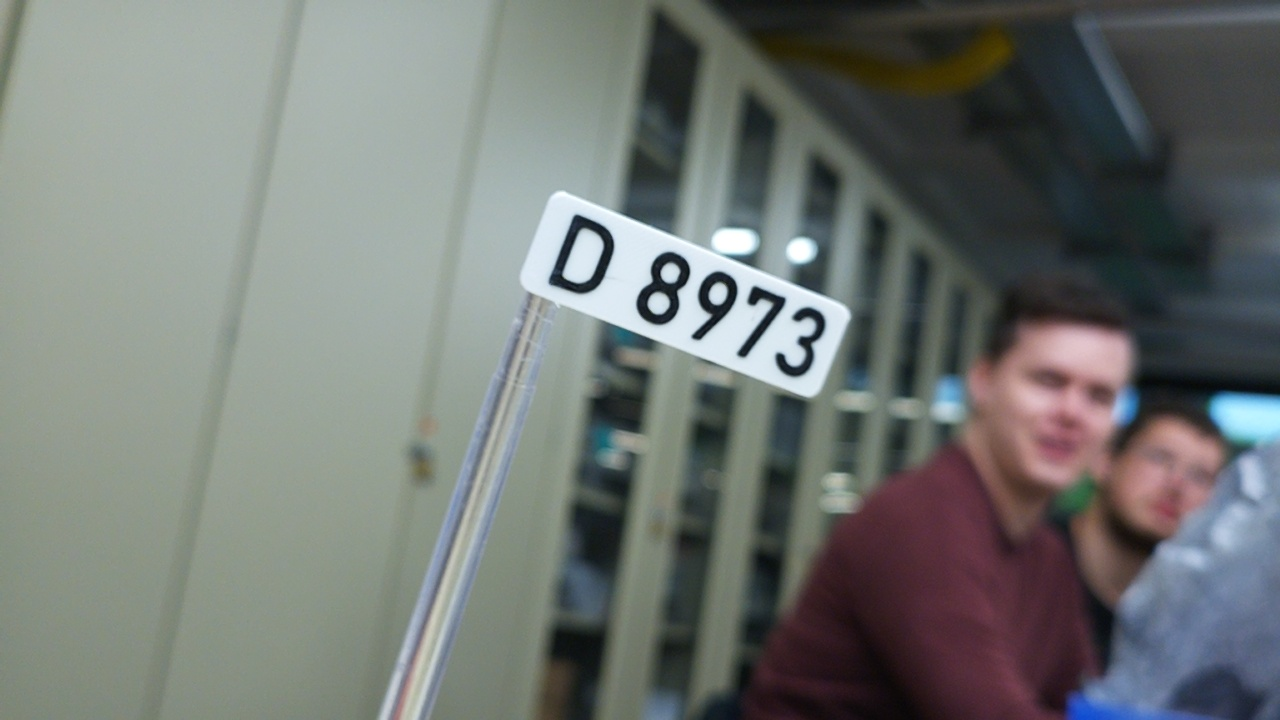license_plate: (516, 184, 854, 404)
